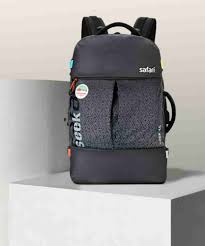backpack: (66, 15, 175, 184)
